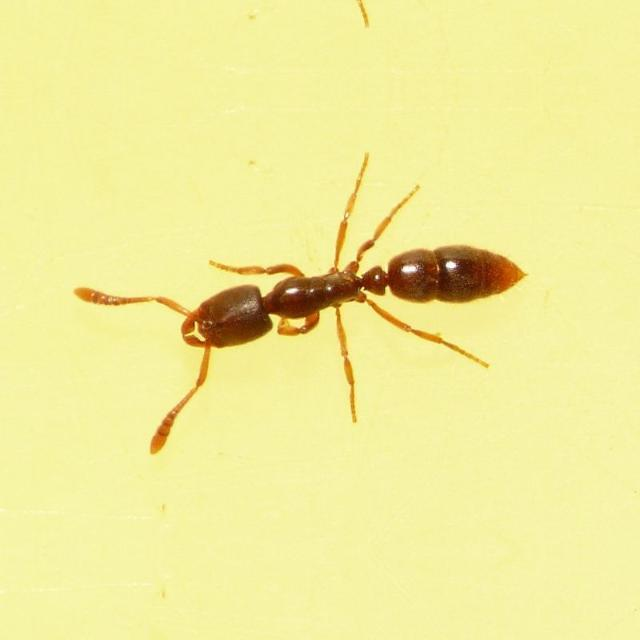Ponera: (100, 191, 526, 383)
